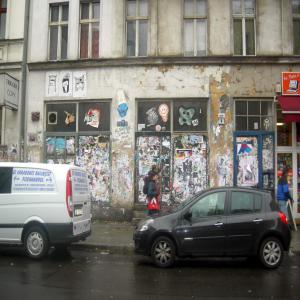Vehicle-registration-plate: (75, 210, 83, 216)
